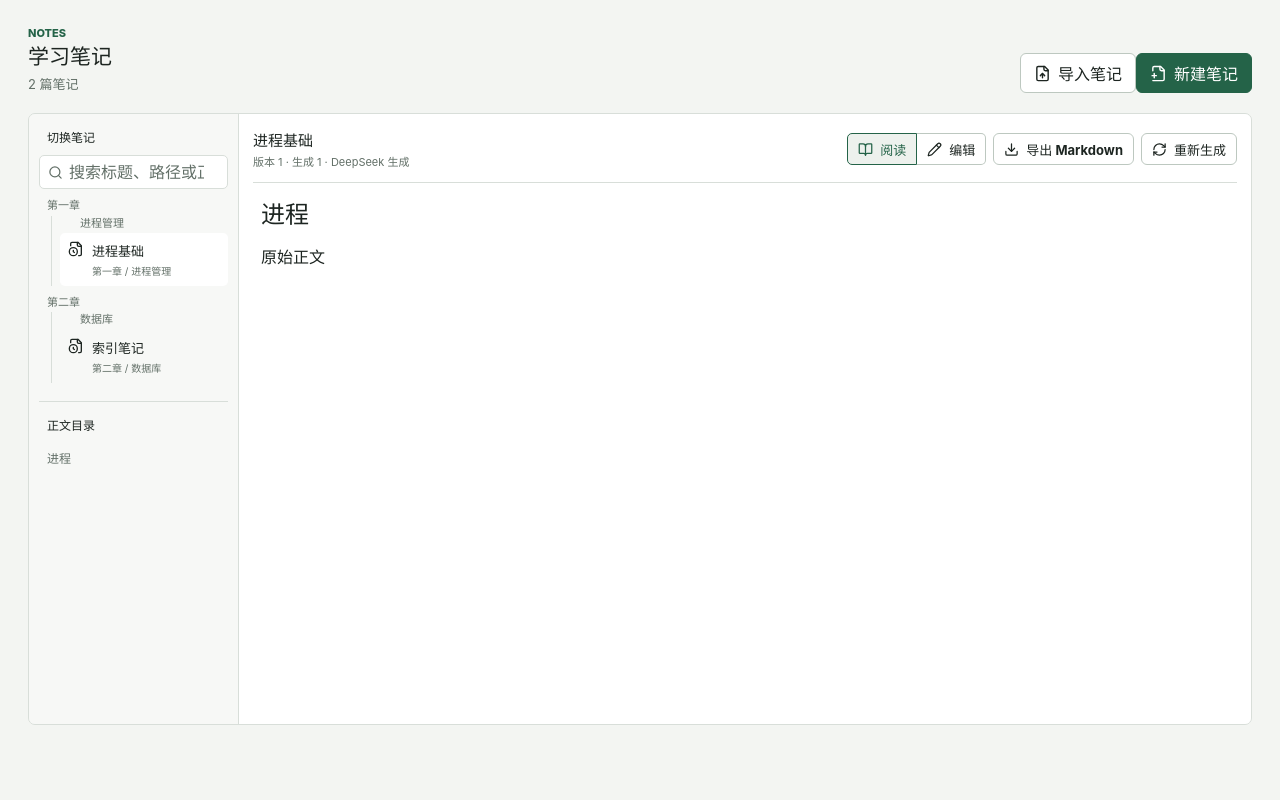
Scenario: NotesPage › groups notes by section path and filters the switcher by search
This screenshot has width=1280, height=800.
Expected: the text "第一章" is shown, [47, 198, 80, 212]
Expected: the text "进程管理" is shown, [80, 216, 124, 230]
Type "索引" into the search field named "搜索笔记" at [144, 172], box [69, 156, 219, 188]
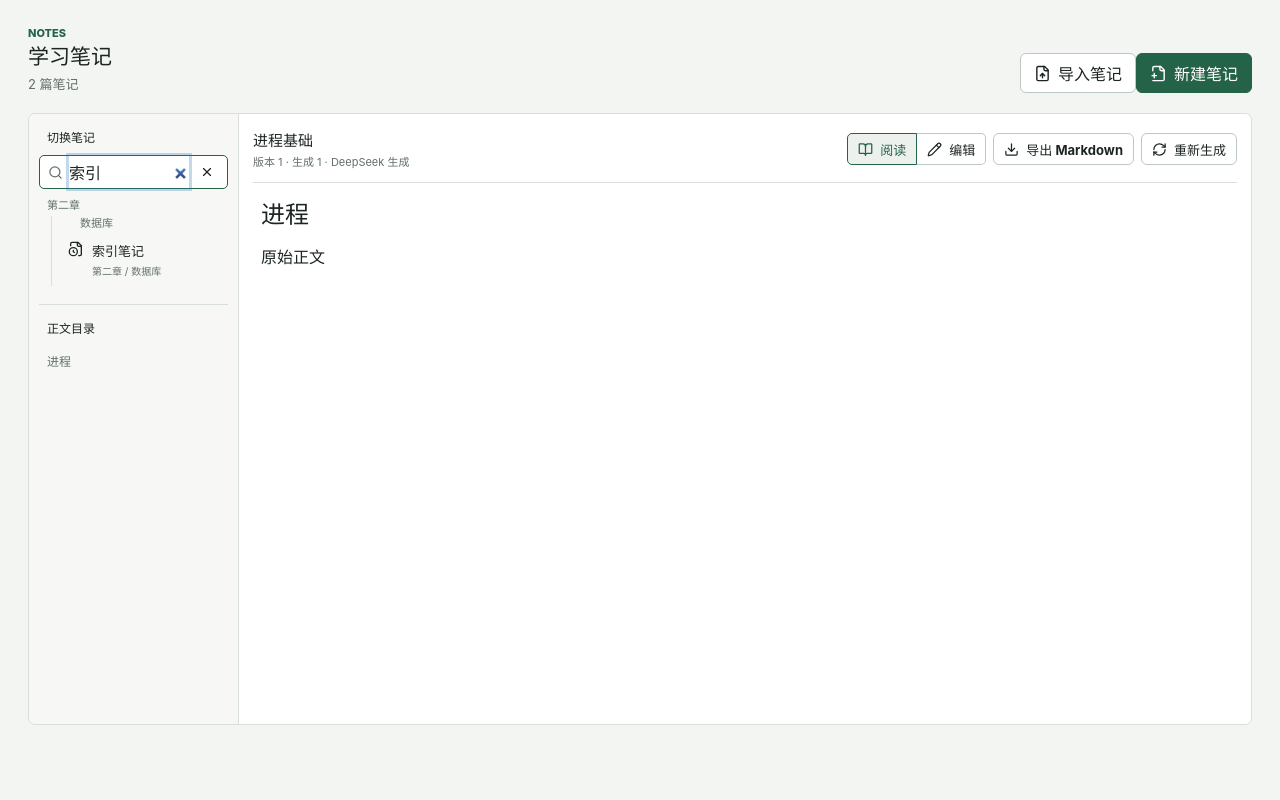
Expected: the button "索引笔记 第二章 / 数据库" is shown, [60, 233, 228, 286]
Click the button named "清除笔记搜索" at [207, 172], box [195, 160, 219, 184]
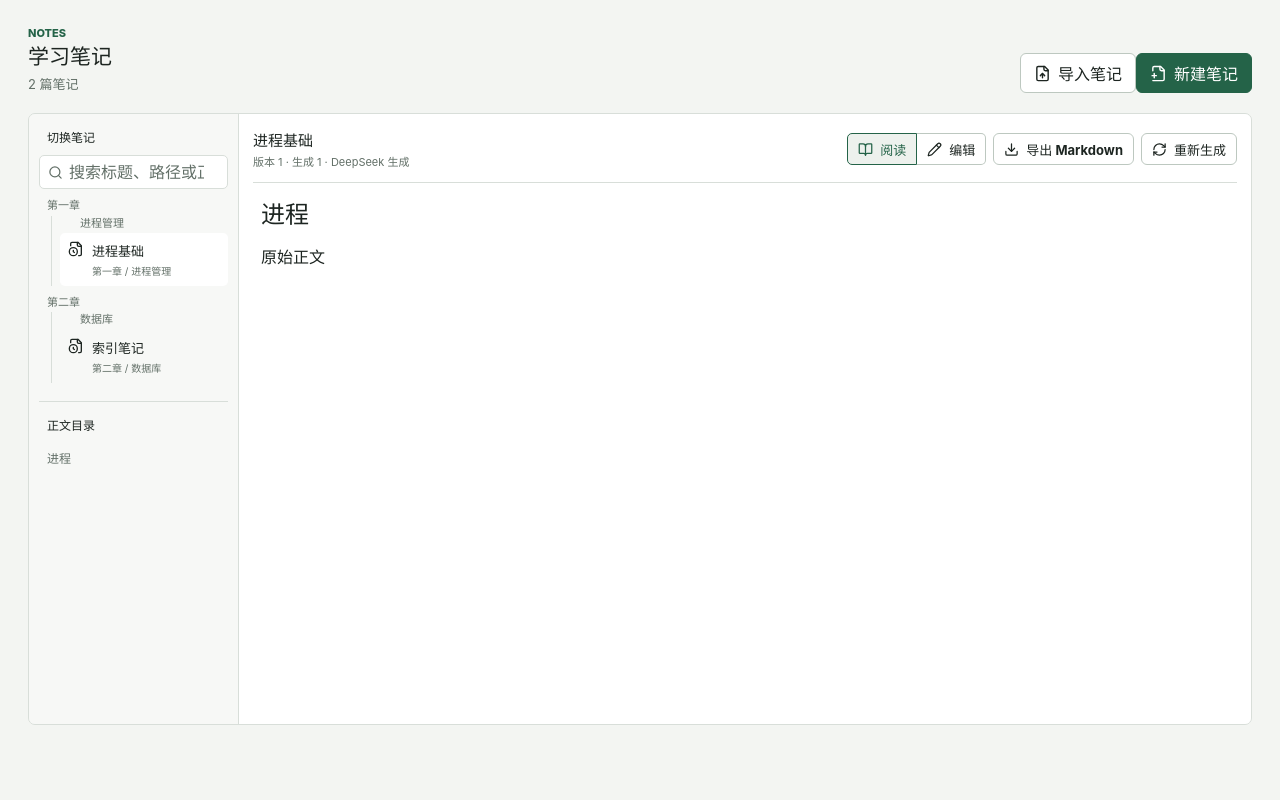
Expected: the button "进程基础 第一章 / 进程管理" is shown, [60, 233, 228, 286]
